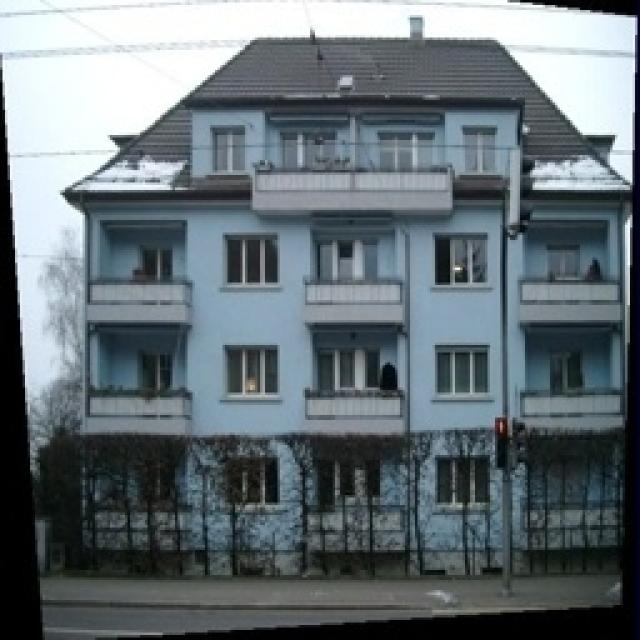building: (105, 70, 640, 628)
